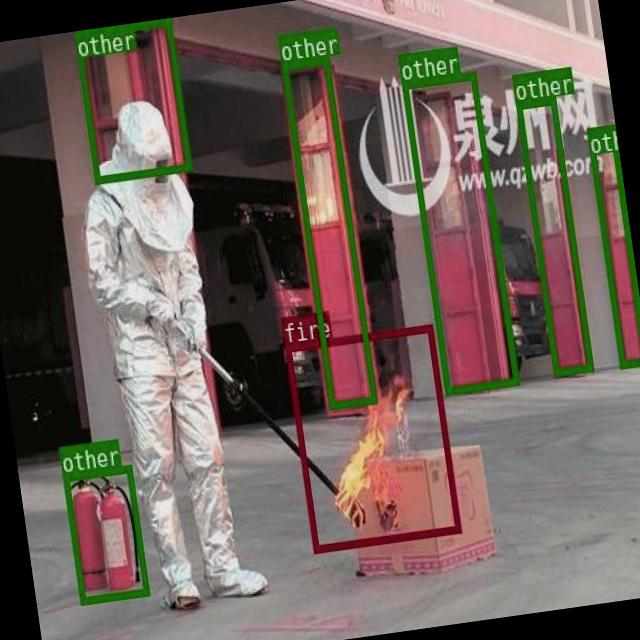fire: (284, 322, 461, 552)
